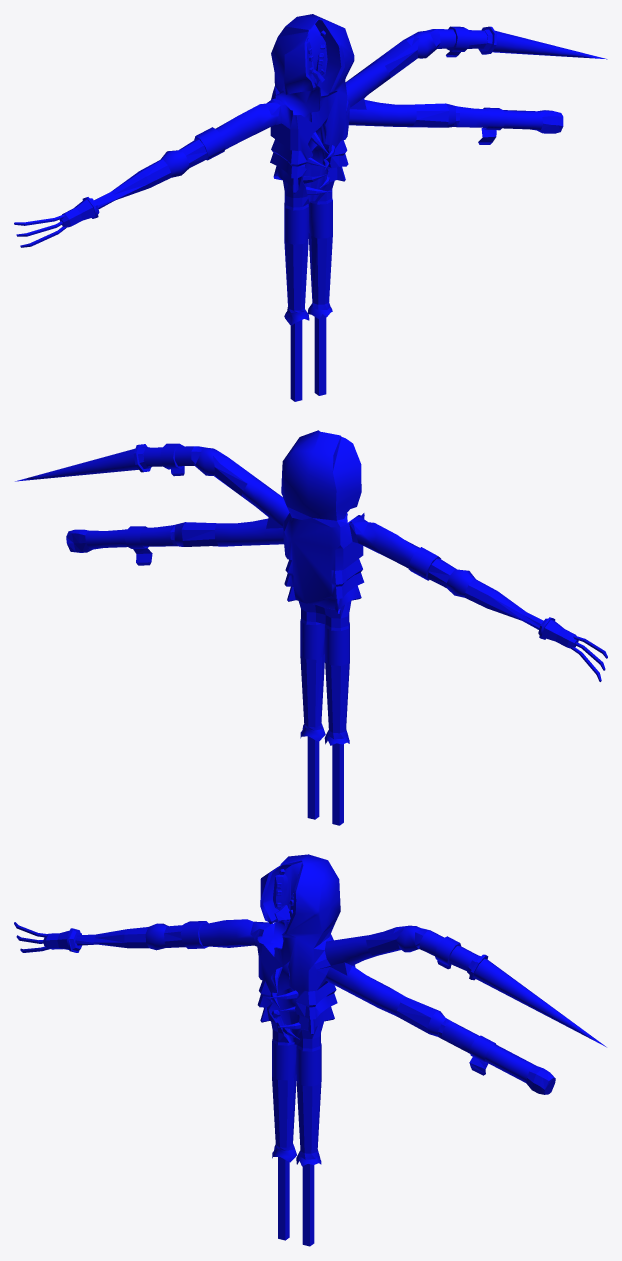
The model's file is Monster.glb.
3 views of the same model, one above another, from view 1: azimuth 30°, elevation 25°; view 2: azimuth 150°, elevation 25°; view 3: azimuth 330°, elevation 25° (orthographic).
Parts seen in each view (by area): view 1: GeoSphere001; view 2: GeoSphere001; view 3: GeoSphere001.
Boxes of the visible parts, x1,y1,x2,y2 form: GeoSphere001: (14,14,607,401); GeoSphere001: (15,430,607,825); GeoSphere001: (14,854,606,1246).
Bounding box in the file's own units: 2.67 × 1.63 × 0.3121.
